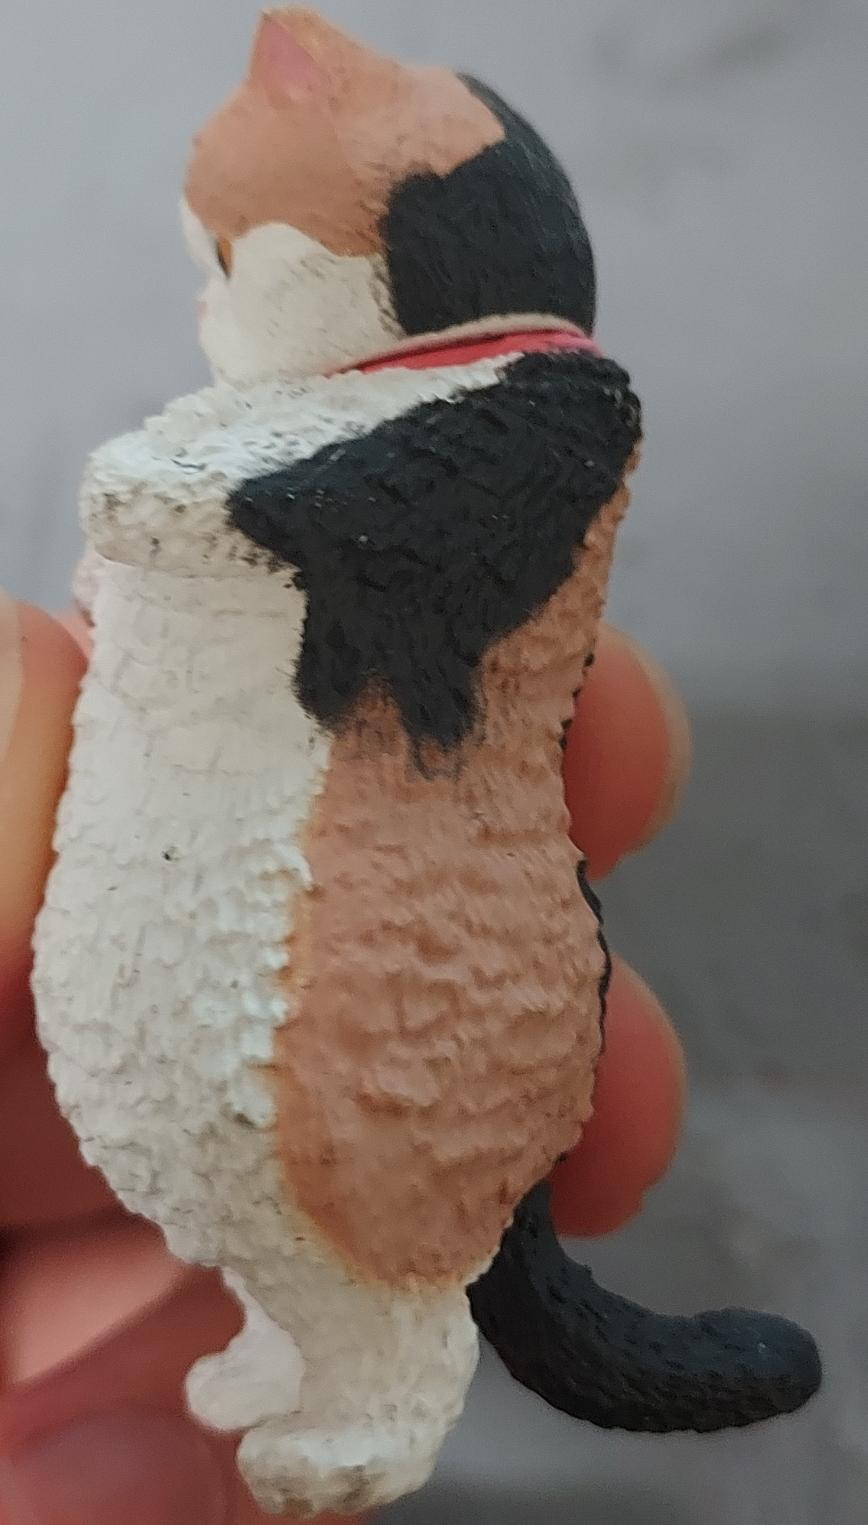cat: (0, 0, 868, 1525)
